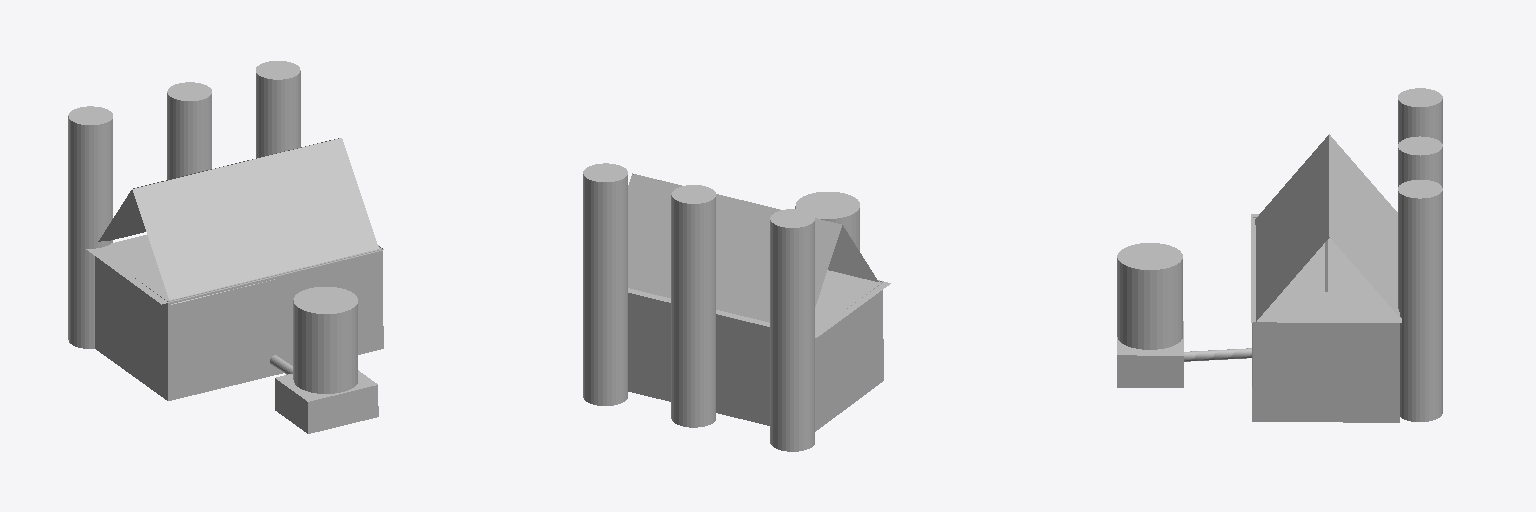
Rendered from oil_refinery.obj.
The picture shows the model from 3 angles: view 1: azimuth 30°, elevation 25°; view 2: azimuth 150°, elevation 25°; view 3: azimuth 270°, elevation 25°; orthographic projection.
Parts seen in each view (by area): view 1: Plane.002, Cube, Cylinder.002_Cylinder.003, Cylinder.004_Cylinder.007, Cylinder.001_Cylinder.002, Cylinder, Cube.004_Cube.005, Plane.001, Plane; view 2: Cube, Plane, Cylinder.002_Cylinder.003, Cylinder, Cylinder.001_Cylinder.002, Plane.001, Cylinder.004_Cylinder.007, Plane.002; view 3: Cube, Cylinder, Plane.002, Plane, Plane.001, Cylinder.004_Cylinder.007, Cube.004_Cube.005, Cylinder.002_Cylinder.003, Cylinder.001_Cylinder.002, Cylinder.003_Cylinder.006.
Boxes of the visible parts, <box> form: Plane.002: <box>132,138,378,304</box>; Cube: <box>95,246,383,400</box>; Cylinder.002_Cylinder.003: <box>68,106,112,348</box>; Cylinder.004_Cylinder.007: <box>293,287,357,393</box>; Cylinder.001_Cylinder.002: <box>167,82,211,179</box>; Cylinder: <box>256,61,300,157</box>; Cube.004_Cube.005: <box>275,370,378,433</box>; Plane.001: <box>86,235,383,304</box>; Plane: <box>98,138,338,241</box>; Cube: <box>628,281,883,431</box>; Plane: <box>628,173,841,322</box>; Cylinder.002_Cylinder.003: <box>770,209,814,451</box>; Cylinder: <box>583,163,627,405</box>; Cylinder.001_Cylinder.002: <box>671,185,715,427</box>; Plane.001: <box>628,270,890,337</box>; Cylinder.004_Cylinder.007: <box>795,192,859,250</box>; Plane.002: <box>633,174,878,281</box>; Cube: <box>1252,217,1399,422</box>; Cylinder: <box>1398,180,1442,421</box>; Plane.002: <box>1255,135,1329,321</box>; Plane: <box>1329,134,1399,316</box>; Plane.001: <box>1251,214,1401,322</box>; Cylinder.004_Cylinder.007: <box>1117,243,1182,349</box>; Cube.004_Cube.005: <box>1117,321,1183,387</box>; Cylinder.002_Cylinder.003: <box>1398,88,1442,143</box>; Cylinder.001_Cylinder.002: <box>1398,136,1442,187</box>; Cylinder.003_Cylinder.006: <box>1184,348,1251,361</box>.
Size of the model in its own units: 7.08 by 6.62 by 8.72.